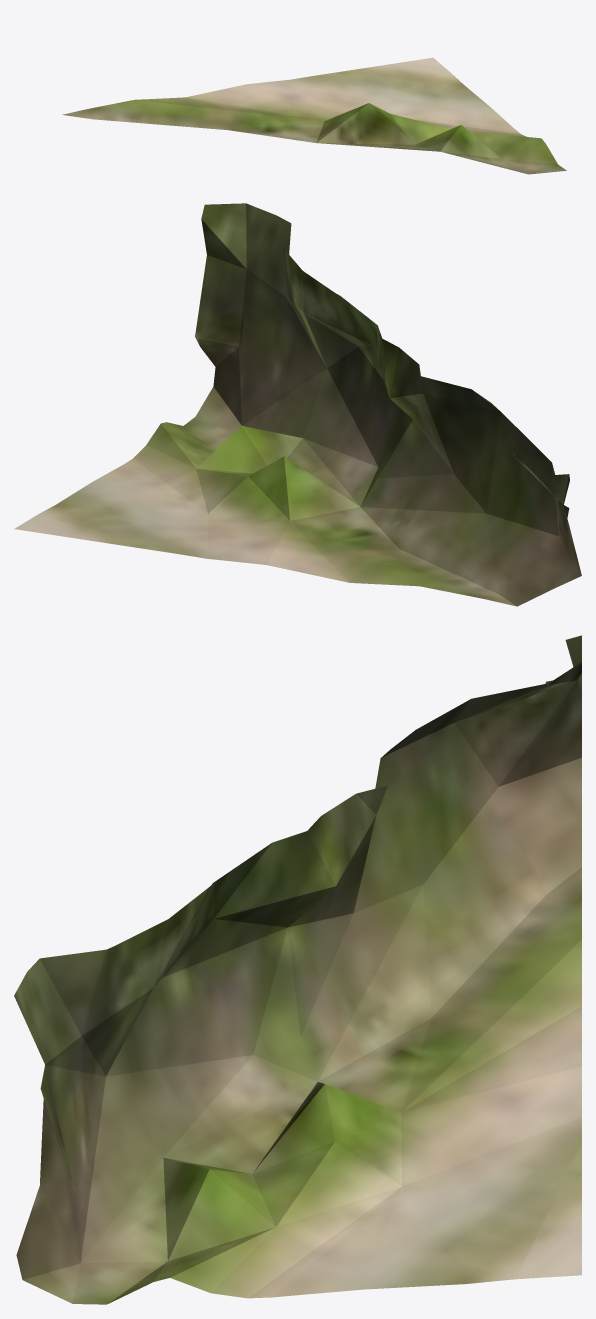
3 views of the same model, one above another, from view 1: azimuth 30°, elevation 25°; view 2: azimuth 150°, elevation 25°; view 3: azimuth 270°, elevation 25° (orthographic). The views are drawn at different scales.
Bounding box in the file's own units: 8.11 × 2.81 × 5.01.
1 material, 1 textured.
